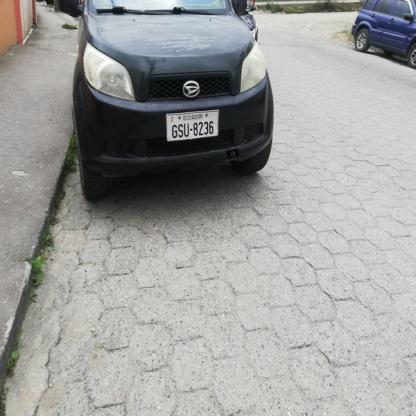Placa: (164, 112, 220, 140)
